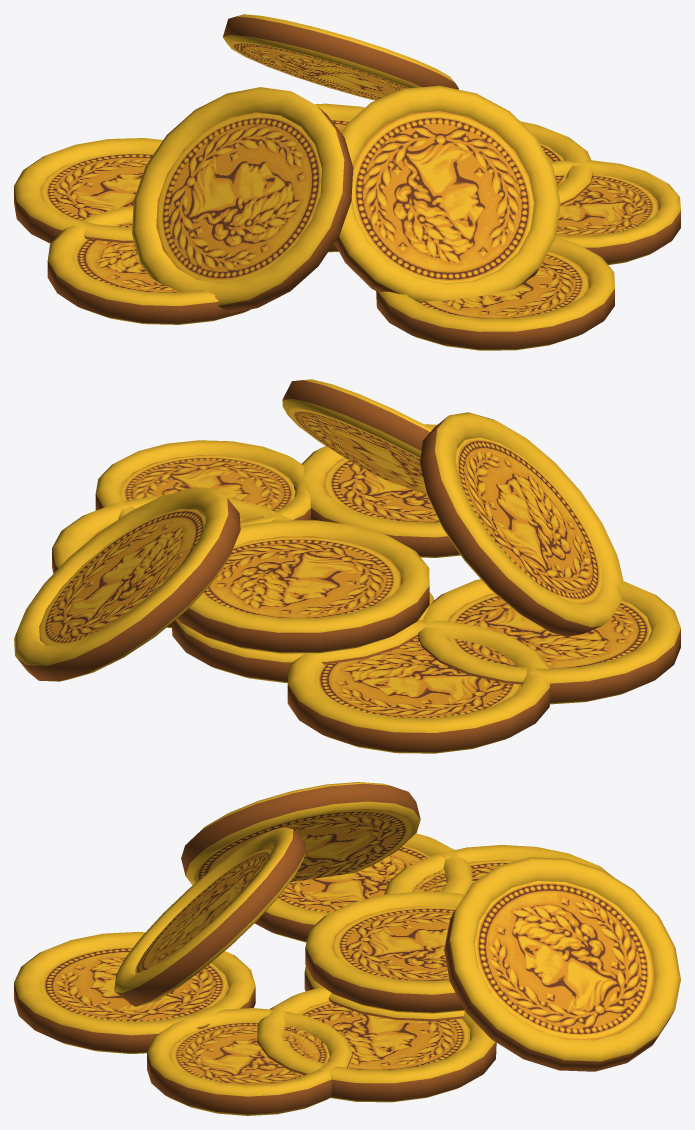
Rendered from item_6coinsm.glb.
The picture shows the model from 3 angles, top to bottom: view 1: azimuth 30°, elevation 25°; view 2: azimuth 150°, elevation 25°; view 3: azimuth 270°, elevation 25°; orthographic projection. The views are drawn at different scales.
Parts seen in each view (by area): view 1: 6coinsm; view 2: 6coinsm; view 3: 6coinsm.
Part boxes in pixels (x1=…): 6coinsm: x1=14, y1=14, x2=680, y2=350; 6coinsm: x1=14, y1=379, x2=680, y2=753; 6coinsm: x1=14, y1=782, x2=680, y2=1115.
Size of the model in its own units: 0.0741 by 0.0214 by 0.0772.
Materials: 1 (1 with a texture image).
